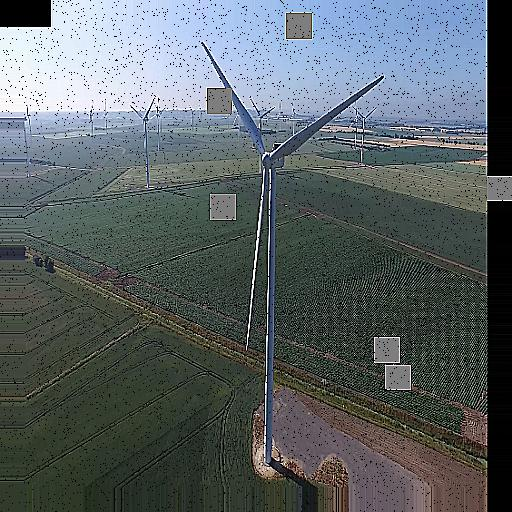wind turbine: (198, 39, 384, 452), (129, 95, 162, 188), (351, 105, 378, 164)
